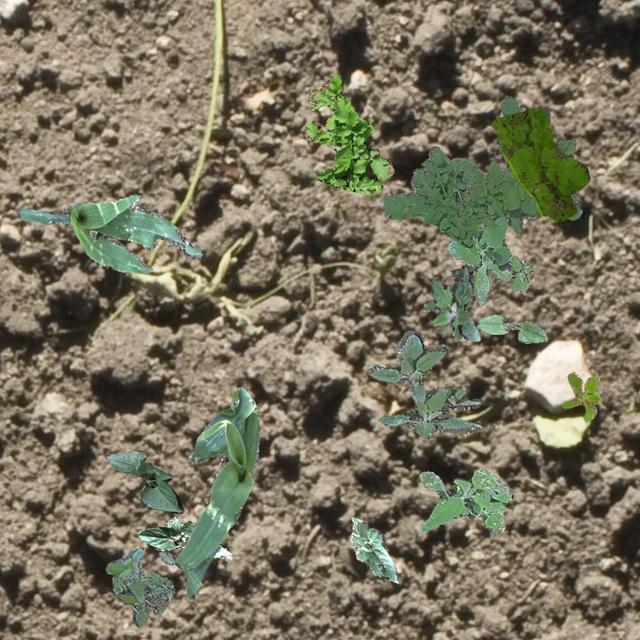crop: (158, 386, 258, 596), (18, 194, 202, 272), (106, 448, 182, 512), (136, 516, 232, 558), (349, 514, 398, 582), (476, 314, 546, 342)
weed: (382, 95, 580, 246), (366, 329, 481, 438), (489, 106, 588, 220), (304, 72, 394, 194), (447, 214, 532, 304), (418, 466, 512, 534), (104, 546, 174, 626), (422, 262, 480, 340), (562, 372, 598, 421)
